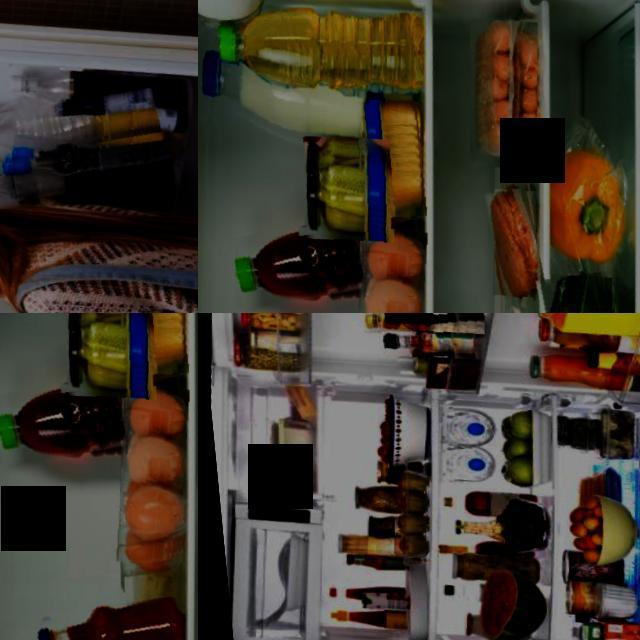apple: (487, 411, 538, 488)
beef: (472, 187, 546, 303), (256, 527, 303, 620)
bell_pepper: (538, 140, 626, 273), (521, 270, 618, 313)
bottle: (198, 25, 374, 149), (210, 0, 419, 88), (0, 129, 175, 233), (215, 210, 365, 313), (0, 81, 161, 172), (0, 367, 127, 471), (3, 132, 173, 201), (7, 58, 192, 120), (14, 589, 181, 640), (525, 314, 640, 366), (518, 352, 640, 399), (431, 483, 526, 525), (374, 326, 472, 364), (354, 313, 482, 342), (440, 512, 520, 550), (429, 444, 489, 488), (320, 530, 400, 563), (435, 408, 489, 450), (430, 582, 471, 602)
cheese: (262, 459, 308, 499)
corn: (566, 466, 606, 506)
egg: (96, 381, 196, 571), (333, 224, 433, 313)
grapes: (367, 396, 431, 470)
ground_beef: (453, 18, 548, 174)
juice: (589, 620, 635, 640)
milk: (526, 313, 640, 334)
peach: (558, 495, 628, 564)
plasticsaveholder: (290, 132, 396, 246), (351, 97, 430, 222), (52, 313, 157, 403), (113, 313, 192, 379), (230, 334, 306, 376), (342, 478, 419, 516), (230, 318, 306, 356), (592, 408, 638, 462), (546, 415, 592, 459), (260, 418, 306, 462), (227, 313, 302, 334), (403, 313, 489, 328)
tomato_sauce: (314, 598, 404, 636), (313, 578, 398, 610), (328, 543, 400, 576)
watermelon: (459, 566, 539, 640)
yogurt: (551, 579, 633, 622)
